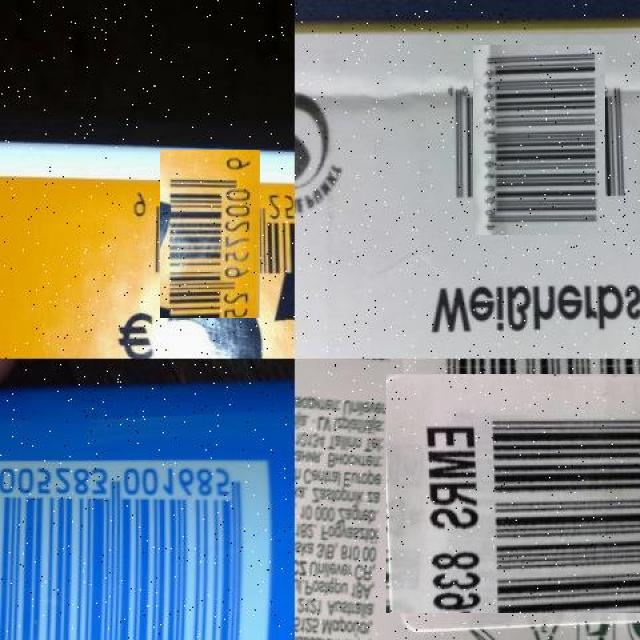Barcode: (394, 367, 640, 621), (0, 458, 278, 640), (458, 60, 619, 221), (143, 166, 278, 301)
